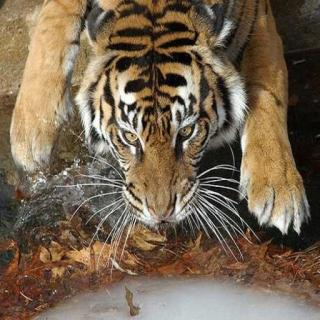Tiger: (4, 0, 320, 237)
